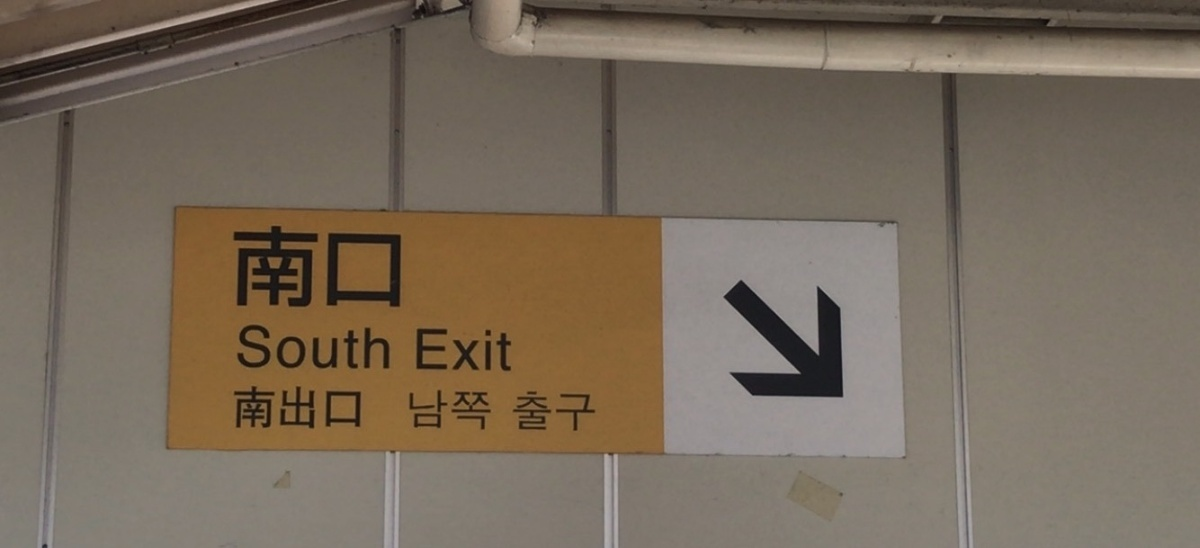text: (385, 225, 401, 309), (241, 225, 256, 309), (257, 225, 272, 309), (273, 225, 288, 309), (289, 225, 304, 309), (305, 225, 320, 309), (321, 225, 336, 309), (337, 225, 352, 309), (353, 225, 368, 309), (369, 225, 384, 309), (241, 324, 256, 370), (257, 324, 272, 370), (273, 324, 288, 370), (289, 324, 304, 370), (305, 324, 320, 370), (321, 324, 336, 370), (337, 324, 352, 370), (353, 324, 368, 370), (369, 324, 384, 370), (241, 385, 256, 430), (257, 385, 272, 430), (273, 385, 288, 430), (289, 385, 304, 430), (305, 385, 320, 430), (321, 385, 336, 430), (337, 385, 352, 430), (417, 330, 432, 372), (433, 330, 448, 372), (449, 330, 464, 372), (465, 330, 480, 372), (481, 330, 496, 372), (417, 391, 432, 431), (433, 391, 448, 431), (449, 391, 464, 431), (465, 391, 480, 431), (529, 392, 544, 432), (545, 392, 560, 432), (561, 392, 576, 432), (577, 392, 592, 432), (233, 225, 240, 309), (497, 330, 511, 372), (515, 392, 528, 432), (481, 391, 493, 431), (353, 385, 362, 430), (233, 385, 240, 430), (410, 391, 416, 431), (385, 324, 389, 370), (238, 324, 240, 370), (593, 392, 595, 432)
